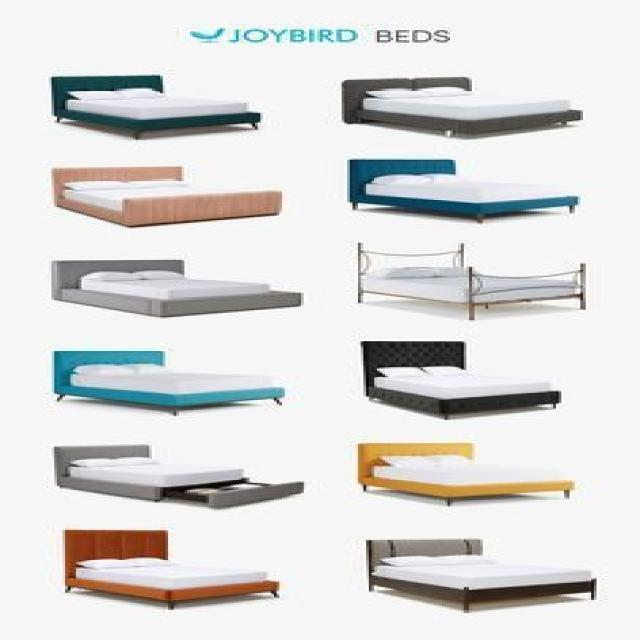obstacle: (352, 240, 586, 320), (59, 528, 280, 610), (364, 537, 596, 613), (358, 338, 559, 421), (52, 442, 304, 508), (52, 348, 284, 416), (344, 157, 578, 223), (339, 76, 583, 138), (49, 258, 301, 318), (49, 164, 282, 227), (355, 441, 575, 506), (48, 73, 260, 138)
